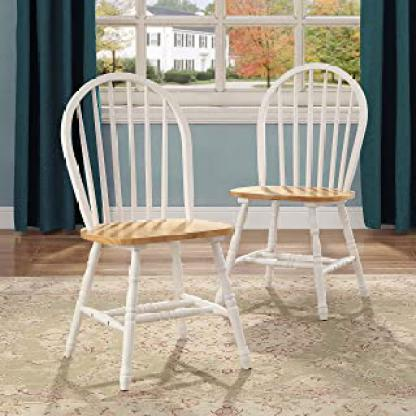chair: (57, 70, 244, 395), (226, 63, 387, 324)
